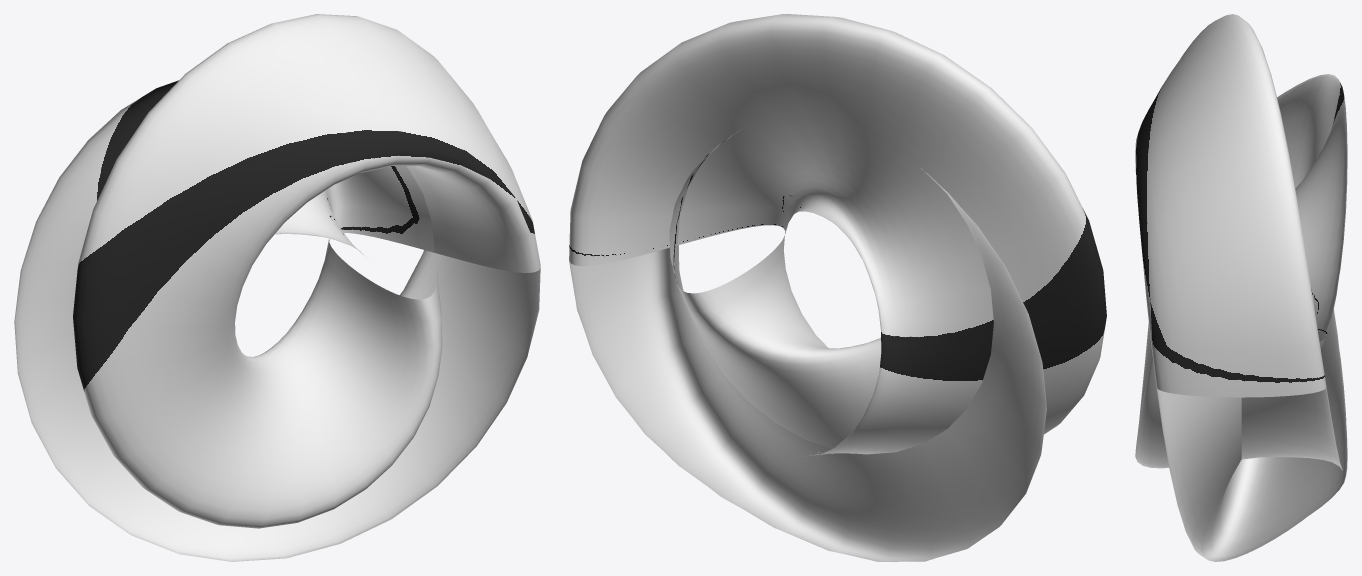
Rendered from klein_bottle_cgal_conformal_result.glb.
3 renders of one model, left to right at view 1: azimuth 30°, elevation 25°; view 2: azimuth 150°, elevation 25°; view 3: azimuth 270°, elevation 25°, orthographic. The views are drawn at different scales.
Parts seen in each view (by area): view 1: parameterized; view 2: parameterized; view 3: parameterized.
Part boxes in pixels (box(x1,y1,x2,y2)): parameterized: box(14, 14, 540, 561); parameterized: box(569, 14, 1106, 561); parameterized: box(1135, 14, 1347, 561).
Size of the model in its own units: 300 by 324 by 125.
Materials: 1 (1 with a texture image).
